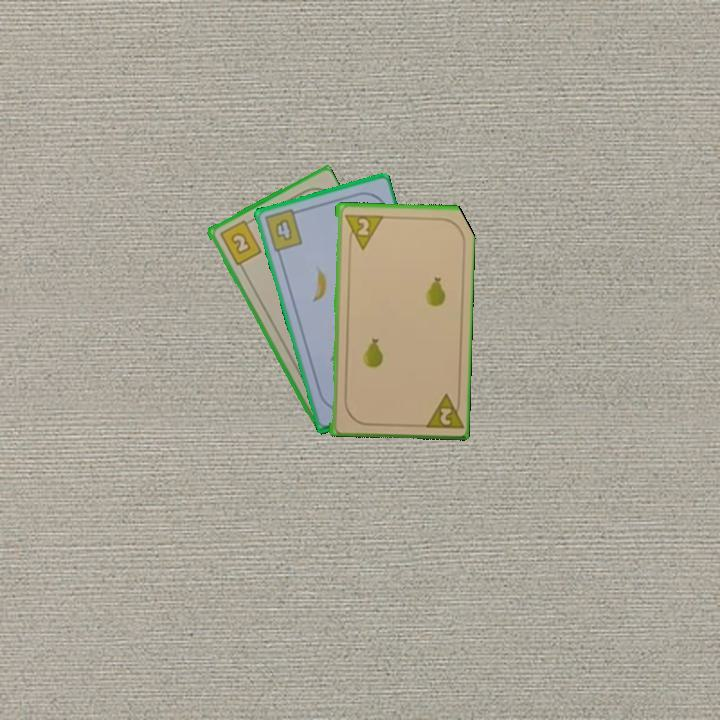2b: (216, 216, 264, 268)
2p: (419, 389, 464, 431), (341, 211, 384, 252)
4b: (261, 206, 305, 254)
